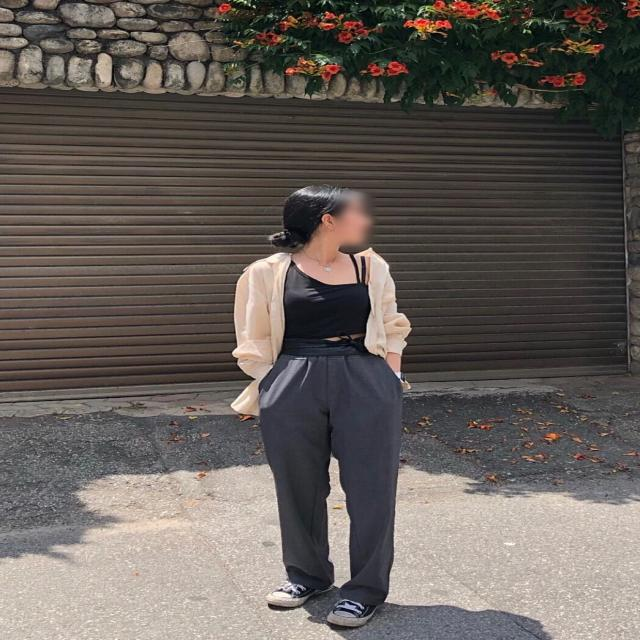shirt: (238, 246, 416, 409)
slacks: (262, 340, 408, 605)
